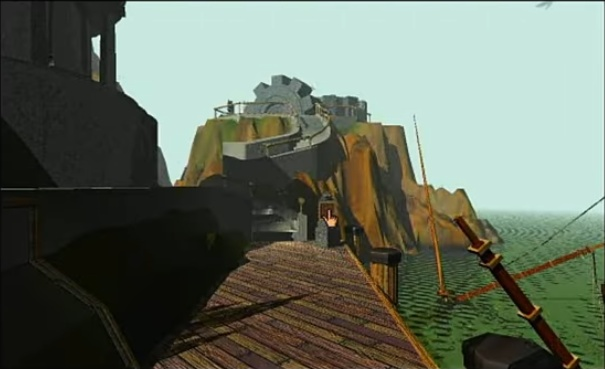Pointer: (316, 204, 342, 229)
